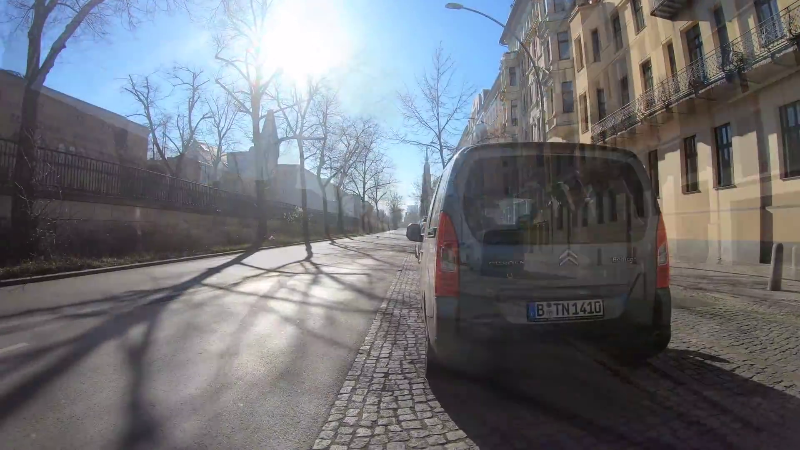Plate: (524, 298, 607, 320)
